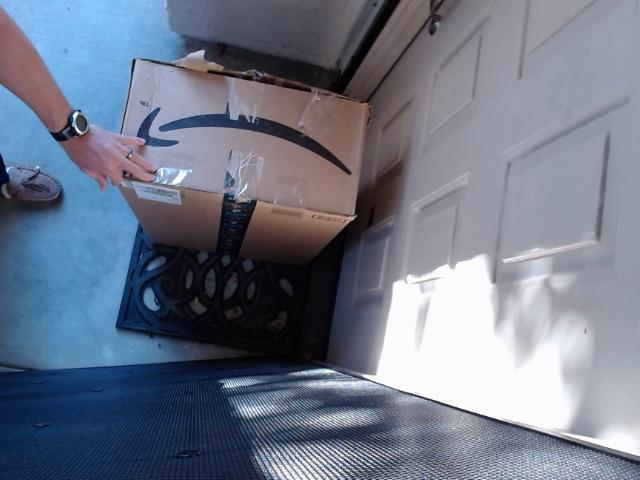box: (110, 55, 375, 263)
